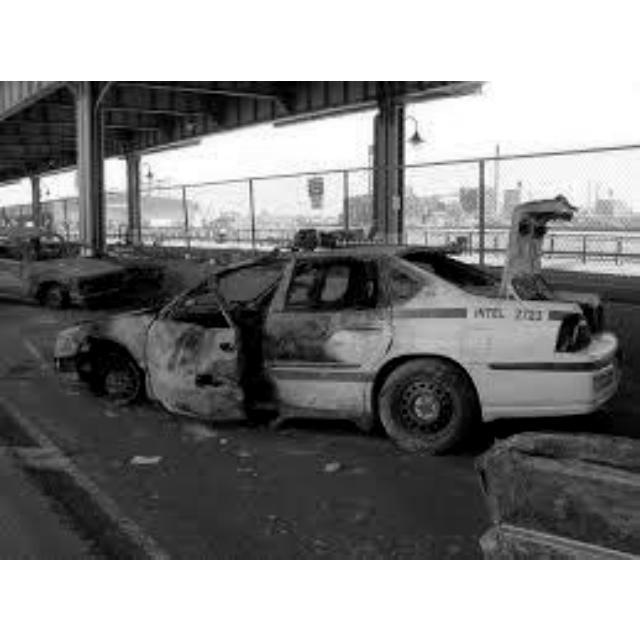doorouter-dent: (149, 323, 257, 414), (273, 308, 376, 401)
roof-dent: (245, 231, 442, 263)
